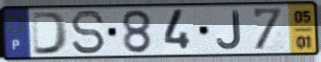4: (162, 7, 196, 55)
7: (252, 7, 286, 53)
8: (120, 9, 153, 55)
D: (30, 11, 71, 56)
J: (215, 9, 243, 51)
S: (68, 9, 106, 56)
